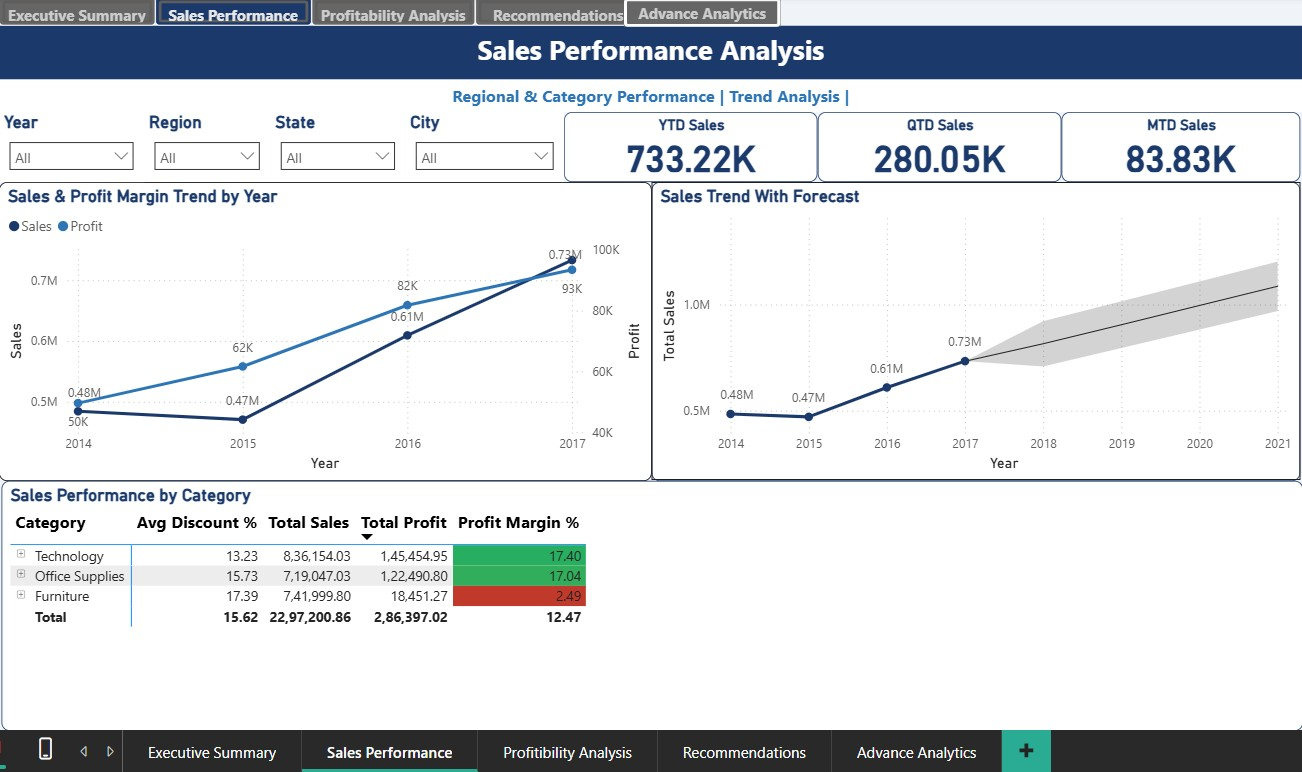

The dashboard page shown, as its layout file describes it:
{"tool":"powerbi","page":{"name":"Sales Performance ","canvas":[1280,720],"ordinal":1},"visuals":[{"type":"card","title":"YTD Sales","fields":{"Values":["DateTable.YTD Sales"]},"box":[554.6,112.9,249.1,68.7],"z":0},{"type":"card","title":"QTD Sales","fields":{"Values":["DateTable.QTD Sales"]},"box":[803.7,112.9,239.3,68.7],"z":1000},{"type":"card","title":"MTD Sales","fields":{"Values":["DateTable.MTD Sales"]},"box":[1043,112.9,234.4,68.7],"z":2000},{"type":"slicer","title":"Region","fields":{"Values":["Sample - Superstore.Region"]},"box":[142.3,112.9,123.9,68.7],"z":3000},{"type":"slicer","title":"State","fields":{"Values":["Sample - Superstore.State"]},"box":[266.3,112.9,132.5,68.7],"z":4000},{"type":"slicer","title":"City","fields":{"Values":["Sample - Superstore.City"]},"box":[398.8,112.9,155.8,68.7],"z":5000},{"type":"lineChart","title":"Sales & Profit Margin Trend by Year","fields":{"Category":["DateTable.Year"],"Y":["Sample - Superstore.Total Sales"],"Y2":["Sample - Superstore.Total Profit"]},"box":[0,181.6,640.5,293.3],"z":6000},{"type":"pivotTable","title":"Sales Performance by Category","fields":{"Rows":["Sample - Superstore.Category","Sample - Superstore.Sub-Category","Sample - Superstore.Product Name"],"Values":["Sample - Superstore.Avg Discount %","Sample - Superstore.Total Sales","Sample - Superstore.Total Profit","Sample - Superstore.Profit Margin %"]},"box":[2.5,474.8,1277.3,245.4],"z":7000},{"type":"slicer","title":"Year","fields":{"Values":["DateTable.Year"]},"box":[0,112.9,142.3,68.7],"z":8000},{"type":"lineChart","title":"Sales Trend With Forecast","fields":{"Category":["DateTable.Year"],"Y":["Sample - Superstore.Total Sales"]},"box":[640.5,181.6,636.8,293.3],"z":9000},{"type":"textbox","box":[0,28.2,1279.8,52.8],"z":10000},{"type":"textbox","box":[0,81,1279.8,31.9],"z":11000},{"type":"actionButton","title":"Executive Summary","box":[0,0,153.4,28.2],"z":12000},{"type":"actionButton","title":"Executive Summary","box":[153.4,0,153.4,28.2],"z":13000},{"type":"actionButton","title":"Executive Summary","box":[306.8,0,160.7,28.2],"z":14000},{"type":"actionButton","title":"Executive Summary","box":[467.5,0,163.2,28.2],"z":15000},{"type":"actionButton","title":"Executive Summary","box":[613.5,1.2,153.4,28.2],"z":16000}]}

Visuals, with their boxes on the page's 1280x720 design canvas (x1, y1, x2, y2). These are canvas units, not pixel positions in the 1302x772 screenshot, which may show the page scaled, cropped or inside an application window:
"YTD Sales" card: <region>555, 113, 804, 182</region>
"QTD Sales" card: <region>804, 113, 1043, 182</region>
"MTD Sales" card: <region>1043, 113, 1277, 182</region>
"Region" slicer: <region>142, 113, 266, 182</region>
"State" slicer: <region>266, 113, 399, 182</region>
"City" slicer: <region>399, 113, 555, 182</region>
"Sales & Profit Margin Trend by Year" lineChart: <region>0, 182, 640, 475</region>
"Sales Performance by Category" pivotTable: <region>2, 475, 1280, 720</region>
"Year" slicer: <region>0, 113, 142, 182</region>
"Sales Trend With Forecast" lineChart: <region>640, 182, 1277, 475</region>
textbox: <region>0, 28, 1280, 81</region>
textbox: <region>0, 81, 1280, 113</region>
"Executive Summary" actionButton: <region>0, 0, 153, 28</region>
"Executive Summary" actionButton: <region>153, 0, 307, 28</region>
"Executive Summary" actionButton: <region>307, 0, 468, 28</region>
"Executive Summary" actionButton: <region>468, 0, 631, 28</region>
"Executive Summary" actionButton: <region>614, 1, 767, 29</region>
